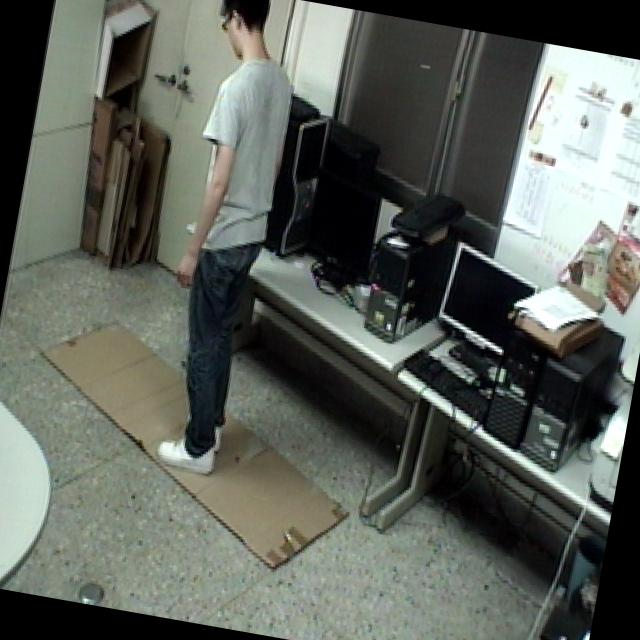stand: (137, 0, 322, 486)
